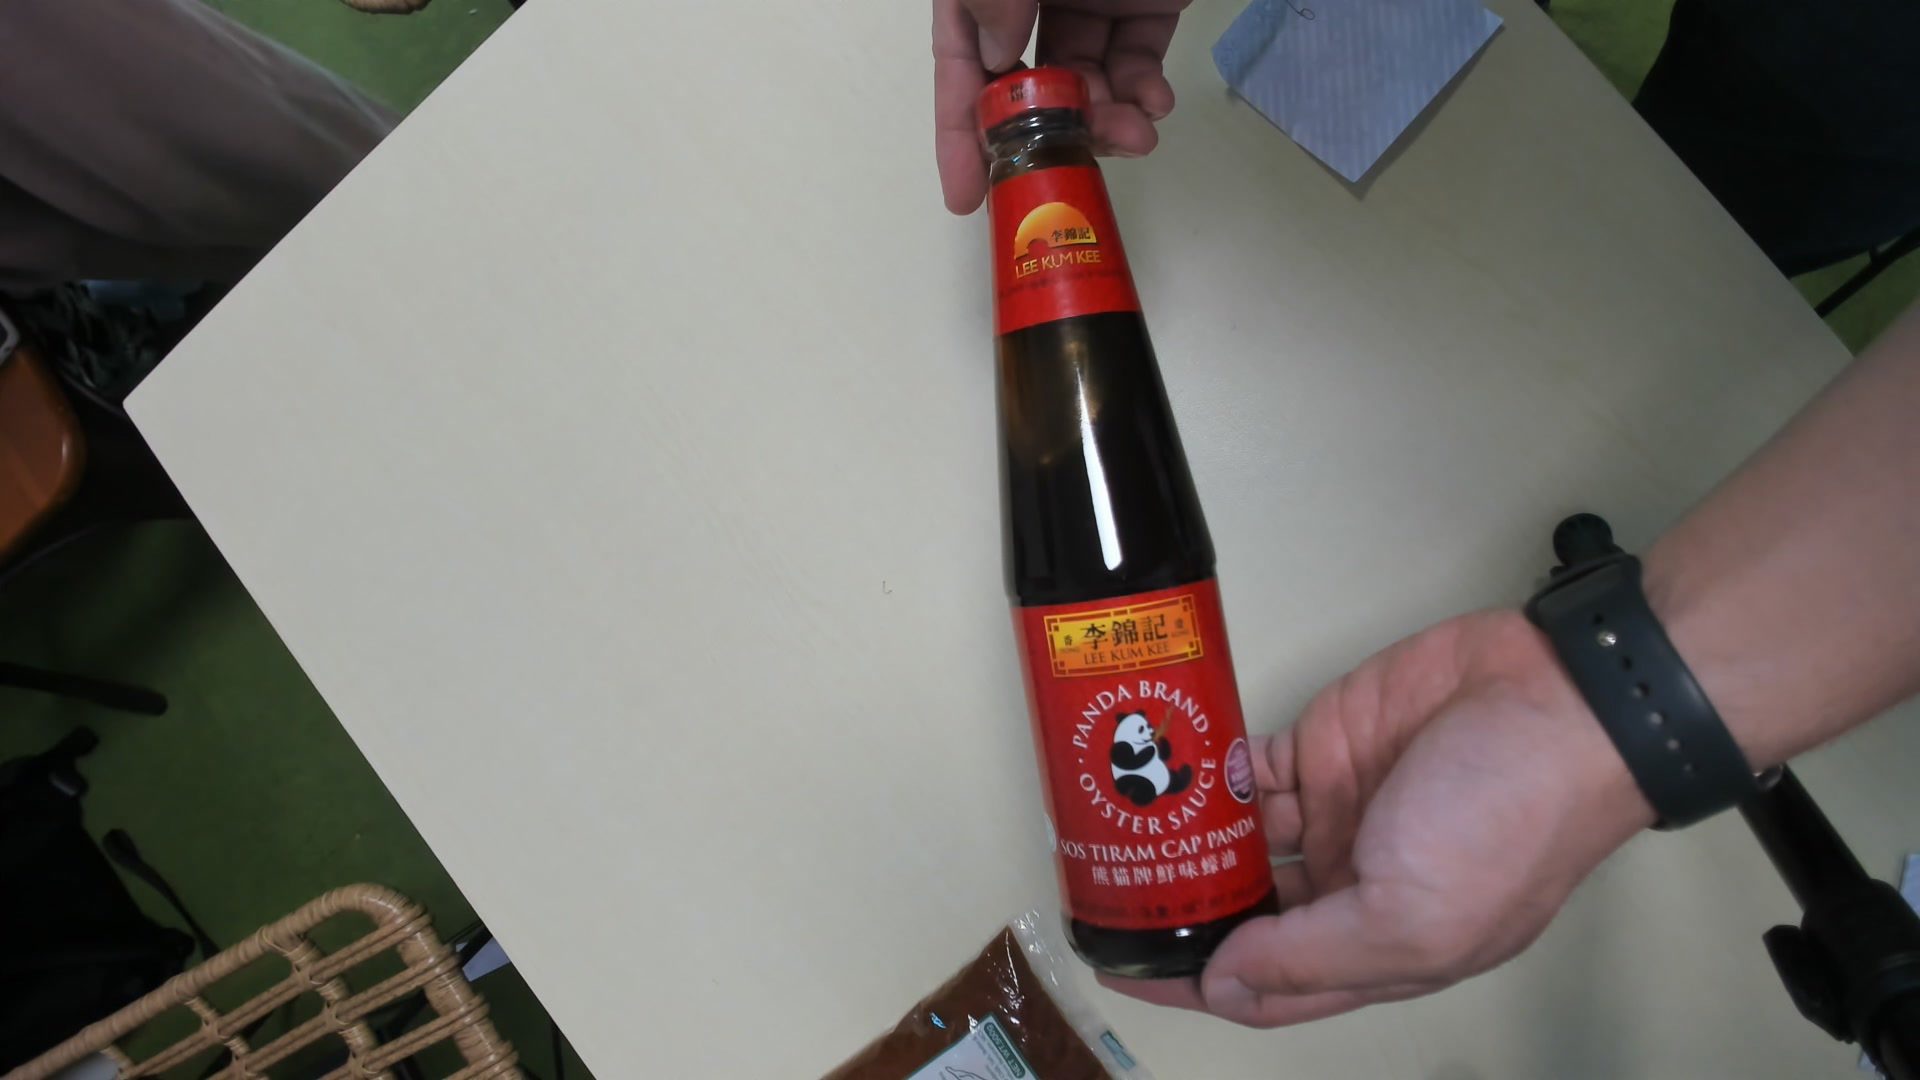OtherSauceDressingSoupbasePaste_500-599g_Halal_NonHealthy: (978, 65, 1283, 985)
